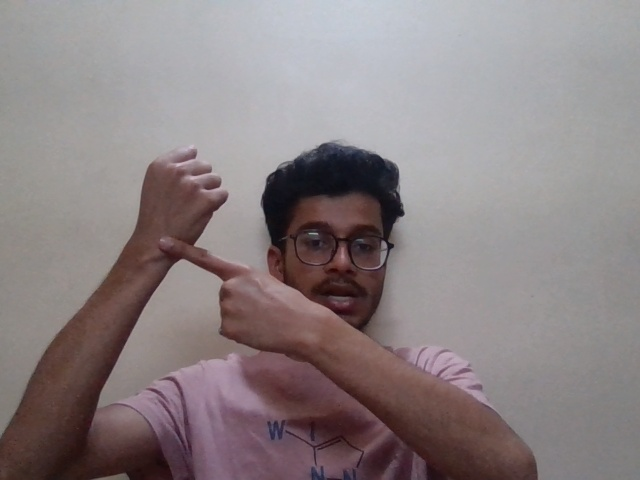time: (117, 140, 292, 366)
